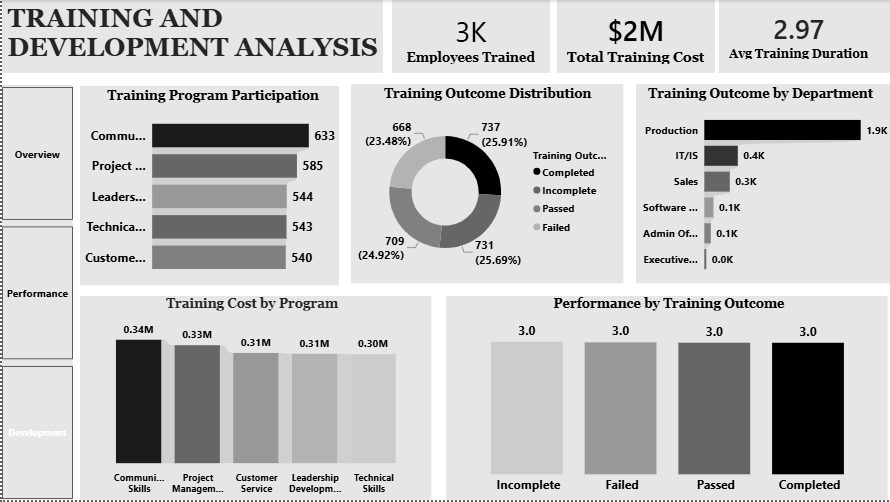

The page's visual inventory and layout, read from the dashboard file:
{"tool":"powerbi","page":{"name":"Development","canvas":[1280,720],"ordinal":2},"visuals":[{"type":"shape","box":[0,0,548.6,105.1],"z":0},{"type":"shape","box":[113,123.6,373.5,287.1],"z":1000},{"type":"textbox","box":[2.9,0,544.3,97.9],"z":2000},{"type":"shape","box":[561.6,0,227.5,105.1],"z":3000},{"type":"cardVisual","fields":{"Data":["Cleaned Dataset.Employees Trained"]},"box":[551.5,0,247.7,109.4],"z":4000},{"type":"shape","box":[799.2,0,227.5,105.1],"z":5000},{"type":"shape","box":[1032.5,0,247.7,105.1],"z":6000},{"type":"cardVisual","fields":{"Data":["Cleaned Dataset.Total Training Cost"]},"box":[780.5,0,265,109.4],"z":7000},{"type":"cardVisual","fields":{"Data":["Cleaned Dataset.Average Training Duration"]},"box":[1015.2,0,265,102.2],"z":8000},{"type":"barChart","title":"Training Program Participation","fields":{"Category":["Cleaned Dataset.Training Program Name"],"Y":["CountNonNull(Cleaned Dataset.Employee ID)"]},"box":[102.3,126.3,404.1,284.4],"z":9000},{"type":"shape","box":[913.1,121,366.9,287.1],"z":10000},{"type":"shape","box":[502.4,121,392.1,287.1],"z":11000},{"type":"shape","box":[113,426.7,506.4,293.7],"z":12000},{"type":"donutChart","title":"Training Outcome Distribution","fields":{"Category":["Cleaned Dataset.Training Outcome"],"Y":["CountNonNull(Cleaned Dataset.Employee ID)"]},"box":[506.4,123.6,385.5,284.4],"z":13000},{"type":"barChart","title":"Training Outcome by Department","fields":{"Category":["Cleaned Dataset.Department Type"],"Y":["CountNonNull(Cleaned Dataset.Employee ID)"]},"box":[903.8,123.6,376.2,284.4],"z":14000},{"type":"columnChart","title":" Training Cost by Program","fields":{"Category":["Cleaned Dataset.Training Program Name"],"Y":["Cleaned Dataset.Total Training Cost"]},"box":[113,426.7,495.8,293.7],"z":15000},{"type":"shape","box":[639.4,426.2,636.5,293.8],"z":16000},{"type":"clusteredColumnChart","title":"Performance by Training Outcome","fields":{"Category":["Cleaned Dataset.Training Outcome"],"Y":["Cleaned Dataset.Avg Performance Score"]},"box":[645.1,426.2,630.7,293.8],"z":17000},{"type":"shape","box":[0,123.1,102.1,596.9],"z":18000},{"type":"pageNavigator","box":[0,125.7,102.1,594.3],"z":19000}]}

Visuals, with their boxes in screenshot pixels (x1, y1, x2, y2), scaled from the page's 1280x720 canvas onto the 890x502 screenshot:
shape: [x1=0, y1=0, x2=381, y2=73]
shape: [x1=79, y1=86, x2=338, y2=286]
textbox: [x1=2, y1=0, x2=380, y2=68]
shape: [x1=390, y1=0, x2=549, y2=73]
cardVisual - Cleaned Dataset.Employees Trained: [x1=383, y1=0, x2=556, y2=76]
shape: [x1=556, y1=0, x2=714, y2=73]
shape: [x1=718, y1=0, x2=889, y2=73]
cardVisual - Cleaned Dataset.Total Training Cost: [x1=543, y1=0, x2=727, y2=76]
cardVisual - Cleaned Dataset.Average Training Duration: [x1=706, y1=0, x2=889, y2=71]
"Training Program Participation" barChart: [x1=71, y1=88, x2=352, y2=286]
shape: [x1=635, y1=84, x2=889, y2=285]
shape: [x1=349, y1=84, x2=622, y2=285]
shape: [x1=79, y1=298, x2=431, y2=501]
"Training Outcome Distribution" donutChart: [x1=352, y1=86, x2=620, y2=284]
"Training Outcome by Department" barChart: [x1=628, y1=86, x2=889, y2=284]
" Training Cost by Program" columnChart: [x1=79, y1=298, x2=423, y2=501]
shape: [x1=445, y1=297, x2=887, y2=501]
"Performance by Training Outcome" clusteredColumnChart: [x1=449, y1=297, x2=887, y2=501]
shape: [x1=0, y1=86, x2=71, y2=501]
pageNavigator: [x1=0, y1=88, x2=71, y2=501]
